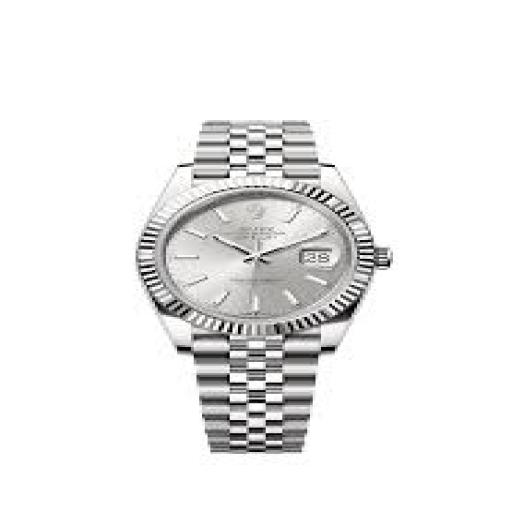KolSaati: (106, 92, 432, 465)
